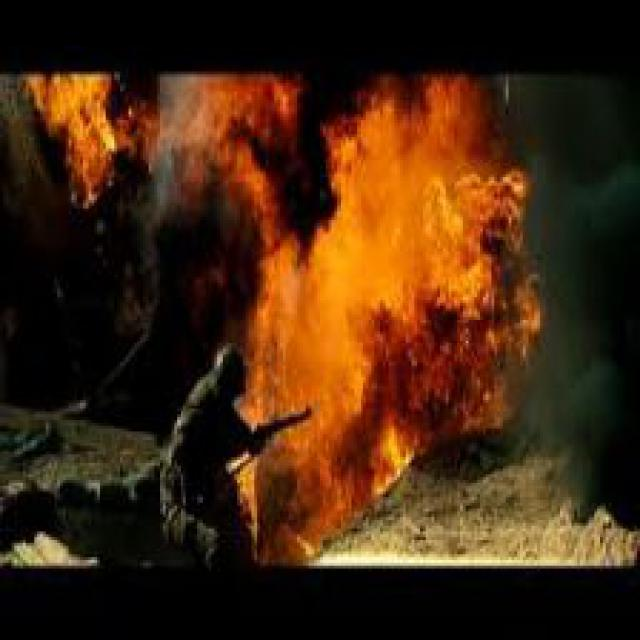fire: (217, 77, 549, 566), (20, 72, 157, 212)
